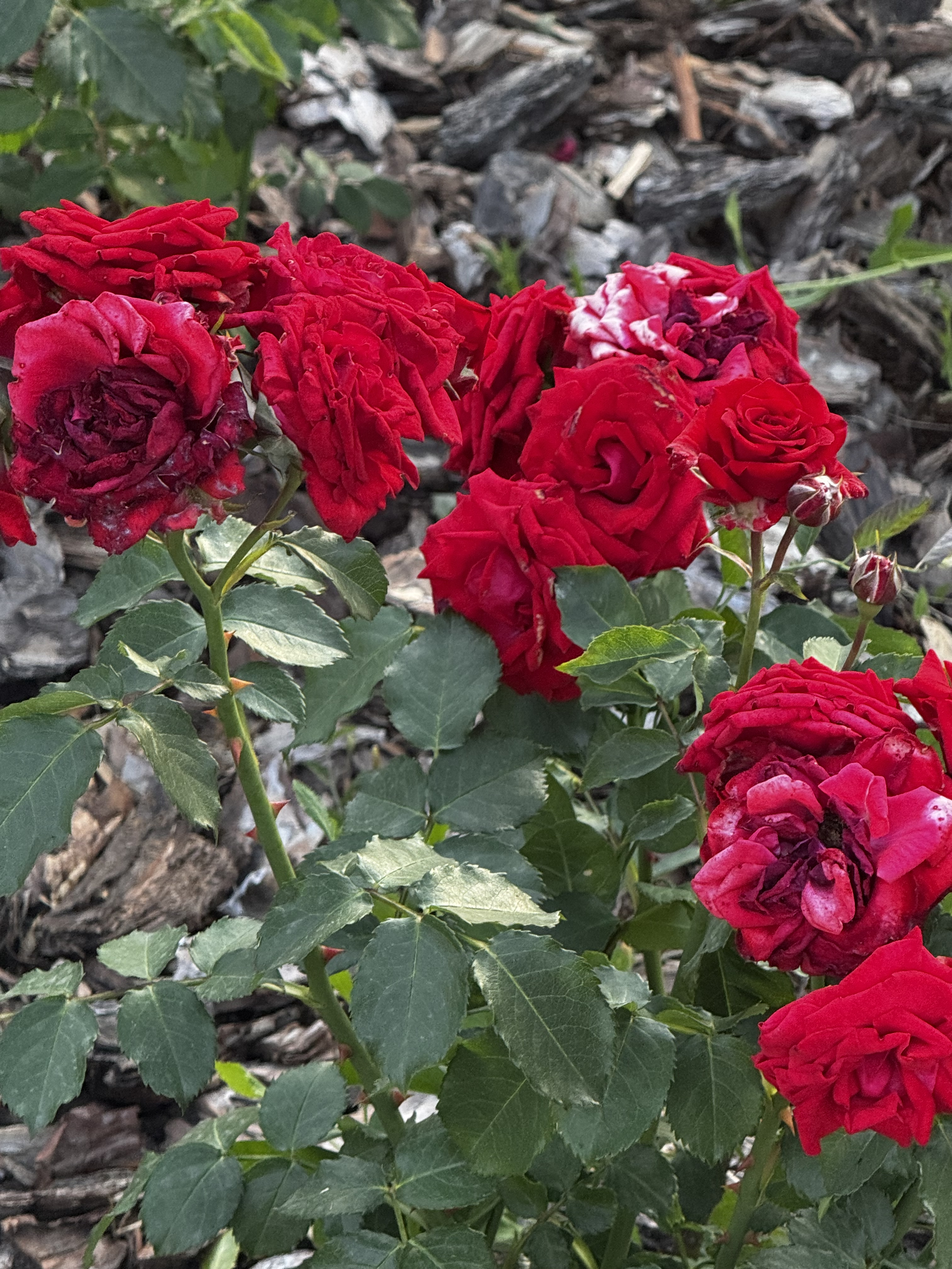rose: (678, 646, 952, 945), (0, 315, 263, 546), (244, 308, 449, 533), (528, 381, 738, 578), (421, 475, 609, 695), (772, 937, 952, 1157), (0, 186, 267, 330), (579, 257, 815, 409), (447, 257, 584, 483), (261, 214, 441, 375), (688, 379, 856, 526)
